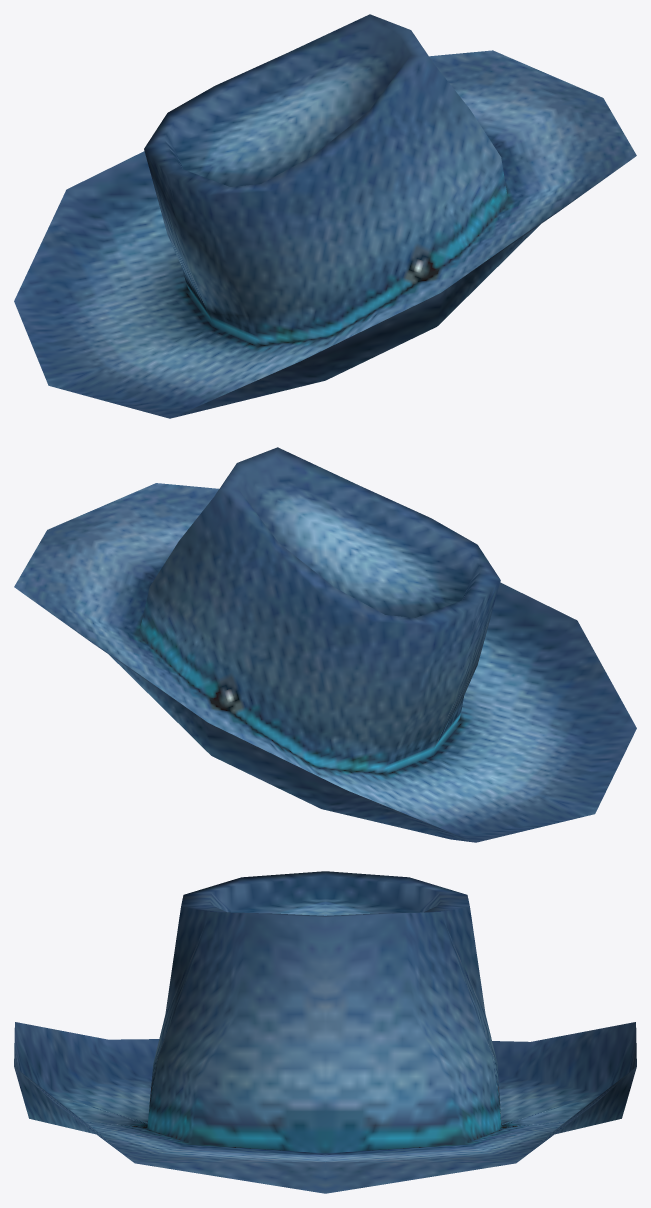
The model's file is hat_0400005.FBX.
3 renders of one model, top to bottom at view 1: azimuth 30°, elevation 25°; view 2: azimuth 150°, elevation 25°; view 3: azimuth 270°, elevation 25°, orthographic. The views are drawn at different scales.
Visible parts, largest first — view 1: hat_0400005; view 2: hat_0400005; view 3: hat_0400005.
Boxes of the visible parts, x1,y1,x2,y2 form: hat_0400005: [14, 14, 636, 418]; hat_0400005: [14, 447, 636, 842]; hat_0400005: [14, 871, 636, 1193].
Size of the model in its own units: 54.97 by 25.29 by 40.36.
